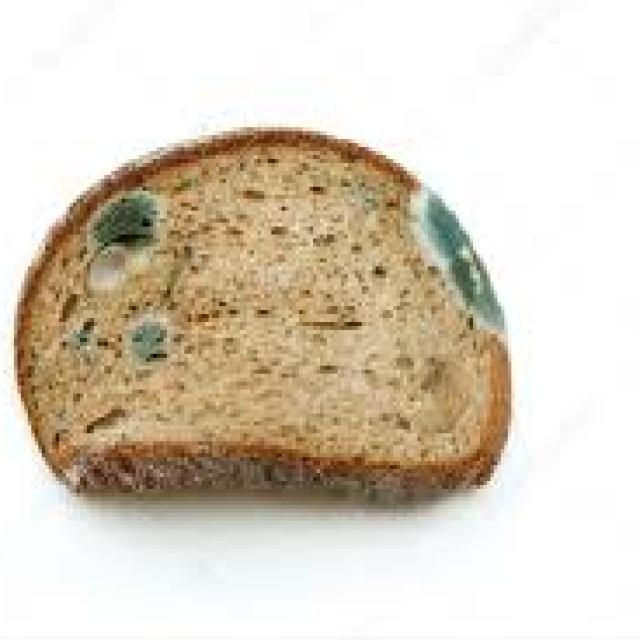inorganic: (35, 103, 521, 528)
